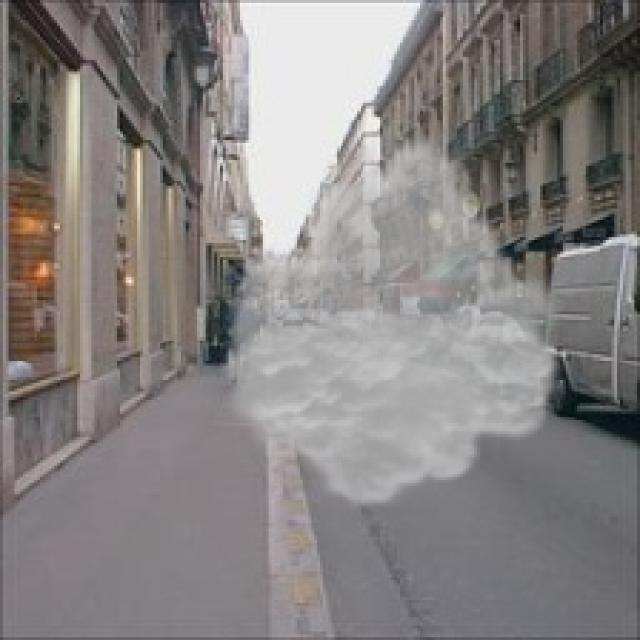Smoke: (214, 132, 572, 512)
